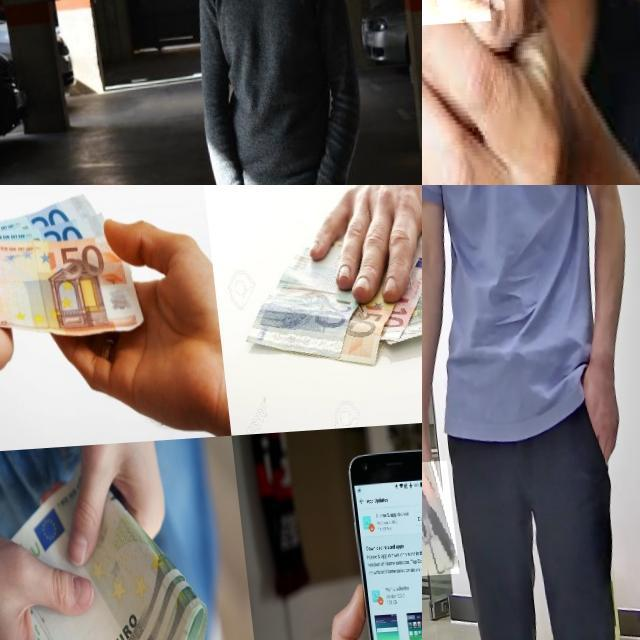gun-knife-thesis - v11 Yolov5 augmented: (422, 0, 485, 185), (422, 464, 459, 580)
